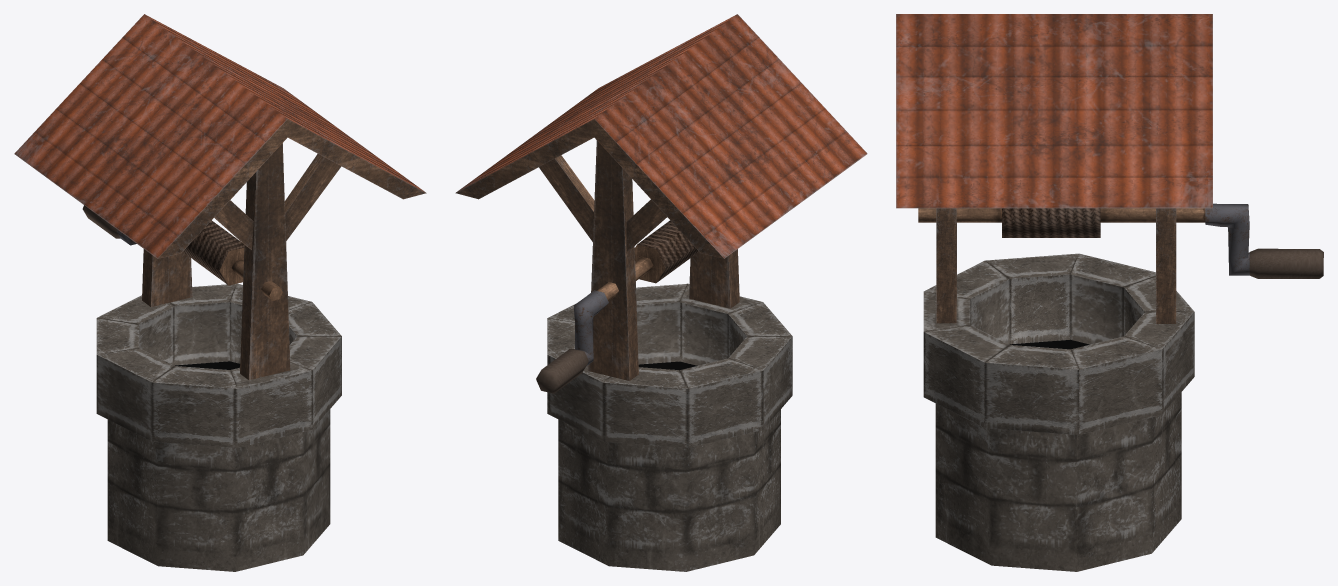
The model's file is poço.fbx.
3 renders of one model, left to right at view 1: azimuth 30°, elevation 25°; view 2: azimuth 150°, elevation 25°; view 3: azimuth 270°, elevation 25°, orthographic. The views are drawn at different scales.
Parts seen in each view (by area): view 1: well_lo, roof_lo, Cube_3_lo, Cube_lo, crank_lo; view 2: well_lo, roof_lo, Cube_3_lo, Cube_lo, crank_lo.001, crank_lo; view 3: well_lo, roof_lo, crank_lo, Cube_3_lo, crank_lo.001.
Part boxes in pixels (left/top/right/bottom): well_lo: left=96, top=283, right=341, bottom=571; roof_lo: left=14, top=14, right=426, bottom=258; Cube_3_lo: left=142, top=143, right=290, bottom=380; Cube_lo: left=214, top=154, right=341, bottom=249; crank_lo: left=183, top=220, right=282, bottom=300; well_lo: left=547, top=283, right=792, bottom=571; roof_lo: left=455, top=14, right=867, bottom=258; Cube_3_lo: left=588, top=140, right=739, bottom=380; Cube_lo: left=539, top=155, right=666, bottom=251; crank_lo.001: left=536, top=290, right=608, bottom=393; crank_lo: left=597, top=220, right=698, bottom=300; well_lo: left=923, top=253, right=1194, bottom=571; roof_lo: left=896, top=14, right=1212, bottom=208; crank_lo: left=918, top=208, right=1205, bottom=237; Cube_3_lo: left=936, top=208, right=1176, bottom=323; crank_lo.001: left=1205, top=203, right=1323, bottom=278.
Size of the model in its own units: 130 by 211 by 162.
